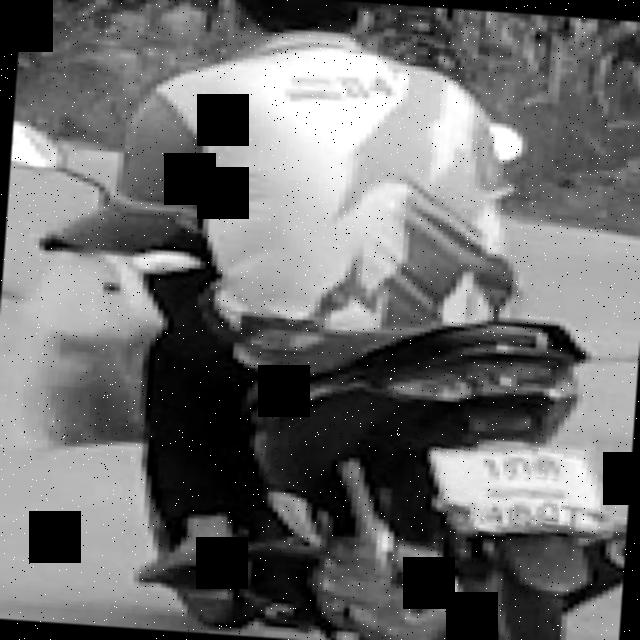letters: (536, 448, 564, 478), (476, 450, 501, 481), (506, 447, 531, 477), (481, 496, 503, 526), (512, 496, 536, 520), (542, 499, 560, 521)
license-plate: (429, 452, 614, 533)
province: (480, 480, 578, 500)
